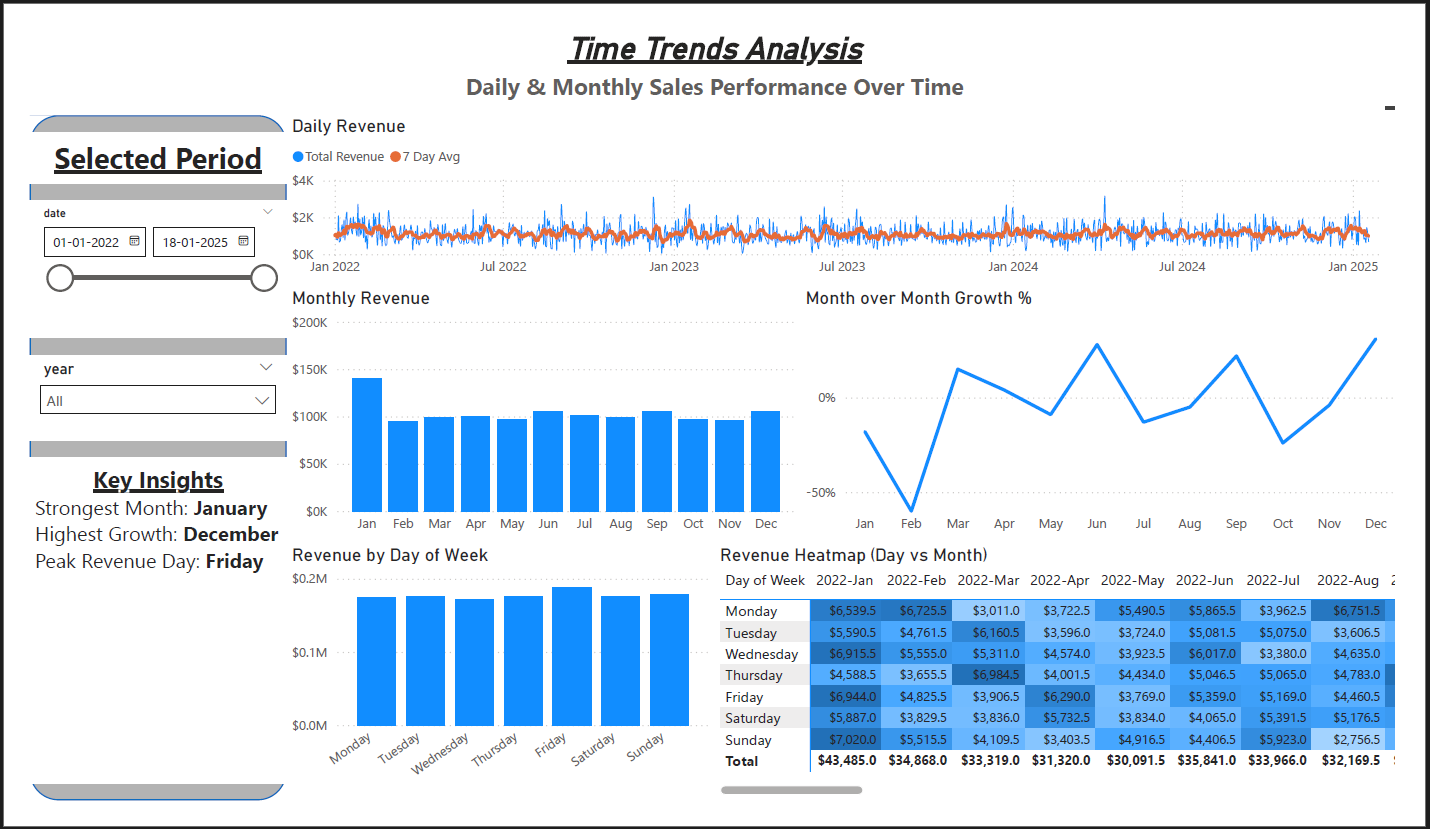

What the dashboard file says about the page in this screenshot:
{"tool":"powerbi","page":{"name":"Time Trends","canvas":[1280,720],"ordinal":2},"visuals":[{"type":"textbox","title":"Time Trends Analysis","box":[0,0,1280,80],"z":0},{"type":"lineChart","title":"Daily Revenue","fields":{"Category":["gold daily_sales_summary.date"],"Y":["Sum(gold daily_sales_summary.total_revenue)","gold daily_sales_summary.7 Day Moving Avg"]},"box":[240,80,1040,160],"z":1000},{"type":"clusteredColumnChart","title":"Monthly Revenue","fields":{"Y":["Sum(gold monthly_trends.revenue)"],"Category":["gold monthly_trends.month_name"]},"box":[240,240,480,240],"z":2000},{"type":"shape","box":[0,80,240,640],"z":3000},{"type":"textbox","box":[0,96,240,48],"z":4000},{"type":"slicer","fields":{"Values":["gold monthly_trends.year"]},"box":[0,304,240,80],"z":5000},{"type":"slicer","fields":{"Values":["gold daily_sales_summary.date"]},"box":[0,160,240,128],"z":6000},{"type":"lineChart","title":"Month over Month Growth %","fields":{"Category":["gold monthly_trends.month_name"],"Y":["Sum(gold monthly_trends.growth_pct)"]},"box":[720,240,560,240],"z":7000},{"type":"clusteredColumnChart","title":"Revenue by Day of Week","fields":{"Category":["gold daily_sales_summary.Day of Week"],"Y":["Sum(gold daily_sales_summary.total_revenue)"]},"box":[240,480,400,240],"z":8000},{"type":"pivotTable","title":"Revenue Heatmap (Day vs Month)","fields":{"Rows":["gold daily_sales_summary.Day of Week"],"Columns":["gold daily_sales_summary.Year Month"],"Values":["gold daily_sales_summary.Total Revenue"]},"box":[640,480,640,240],"z":9000},{"type":"textbox","box":[0,400,240,304],"z":10000}]}

Visuals, with their boxes in screenshot pixels (x1, y1, x2, y2), scaled from the page's 1280x720 canvas onto the 1430x829 screenshot:
"Time Trends Analysis" textbox: (0, 0, 1429, 92)
"Daily Revenue" lineChart: (268, 92, 1429, 276)
"Monthly Revenue" clusteredColumnChart: (268, 276, 804, 553)
shape: (0, 92, 268, 828)
textbox: (0, 111, 268, 166)
slicer - gold monthly_trends.year: (0, 350, 268, 442)
slicer - gold daily_sales_summary.date: (0, 184, 268, 332)
"Month over Month Growth %" lineChart: (804, 276, 1429, 553)
"Revenue by Day of Week" clusteredColumnChart: (268, 553, 715, 828)
"Revenue Heatmap (Day vs Month)" pivotTable: (715, 553, 1429, 828)
textbox: (0, 461, 268, 811)
